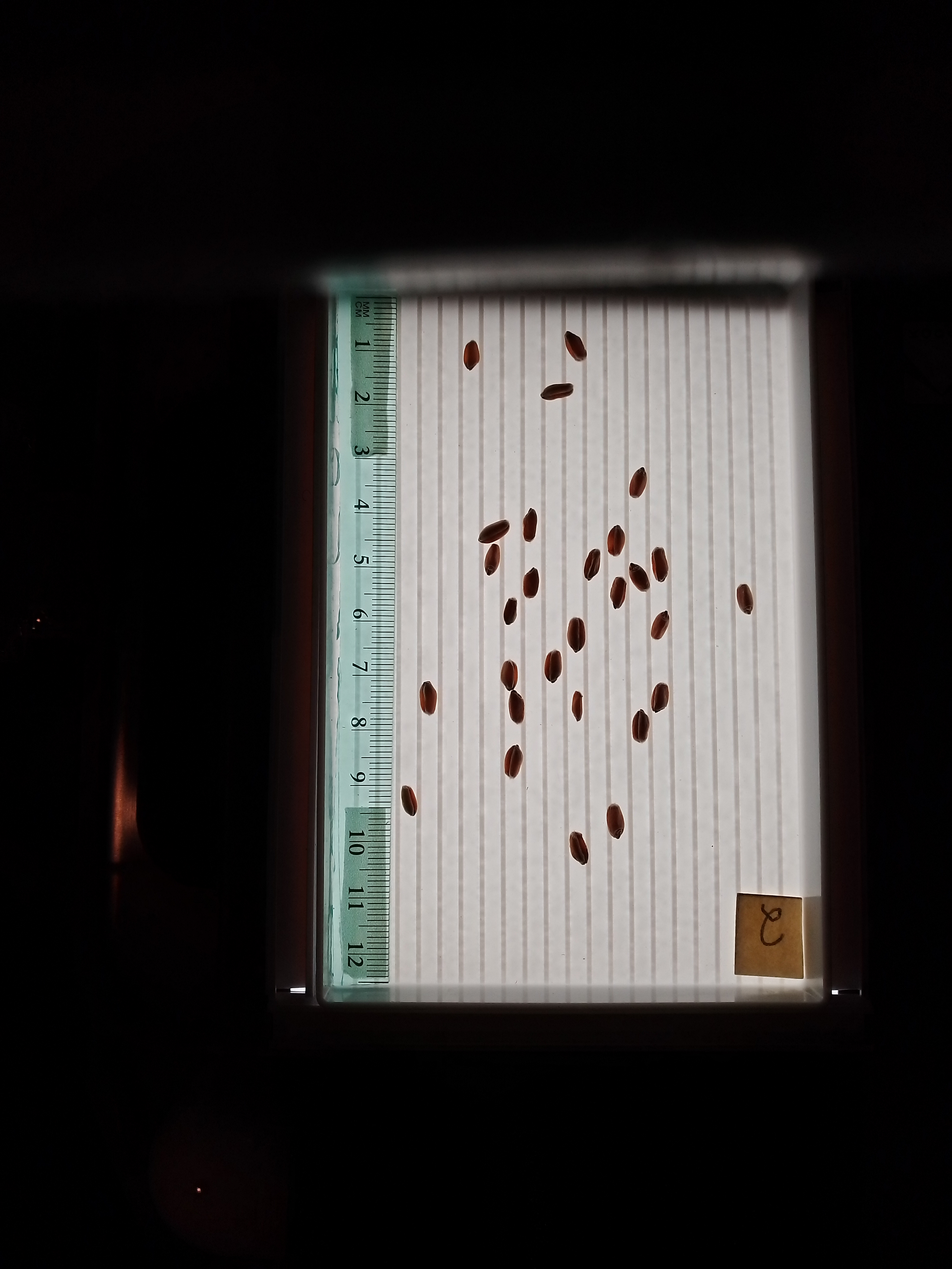seed mask: (479, 520, 509, 543), (569, 832, 589, 865), (606, 804, 625, 838), (567, 617, 585, 652), (565, 332, 587, 360), (544, 651, 562, 683), (505, 745, 522, 778), (629, 564, 649, 592), (652, 548, 668, 582), (632, 711, 649, 743), (420, 682, 437, 714), (607, 526, 625, 556), (651, 683, 669, 713), (508, 693, 525, 723), (629, 468, 647, 496), (542, 384, 573, 400), (610, 577, 626, 608), (584, 550, 601, 579), (651, 612, 669, 639), (484, 545, 500, 575), (401, 786, 417, 816), (501, 661, 518, 689), (522, 510, 537, 541), (737, 585, 753, 614), (523, 569, 539, 598), (464, 342, 479, 369), (504, 598, 518, 624), (572, 693, 583, 720)
